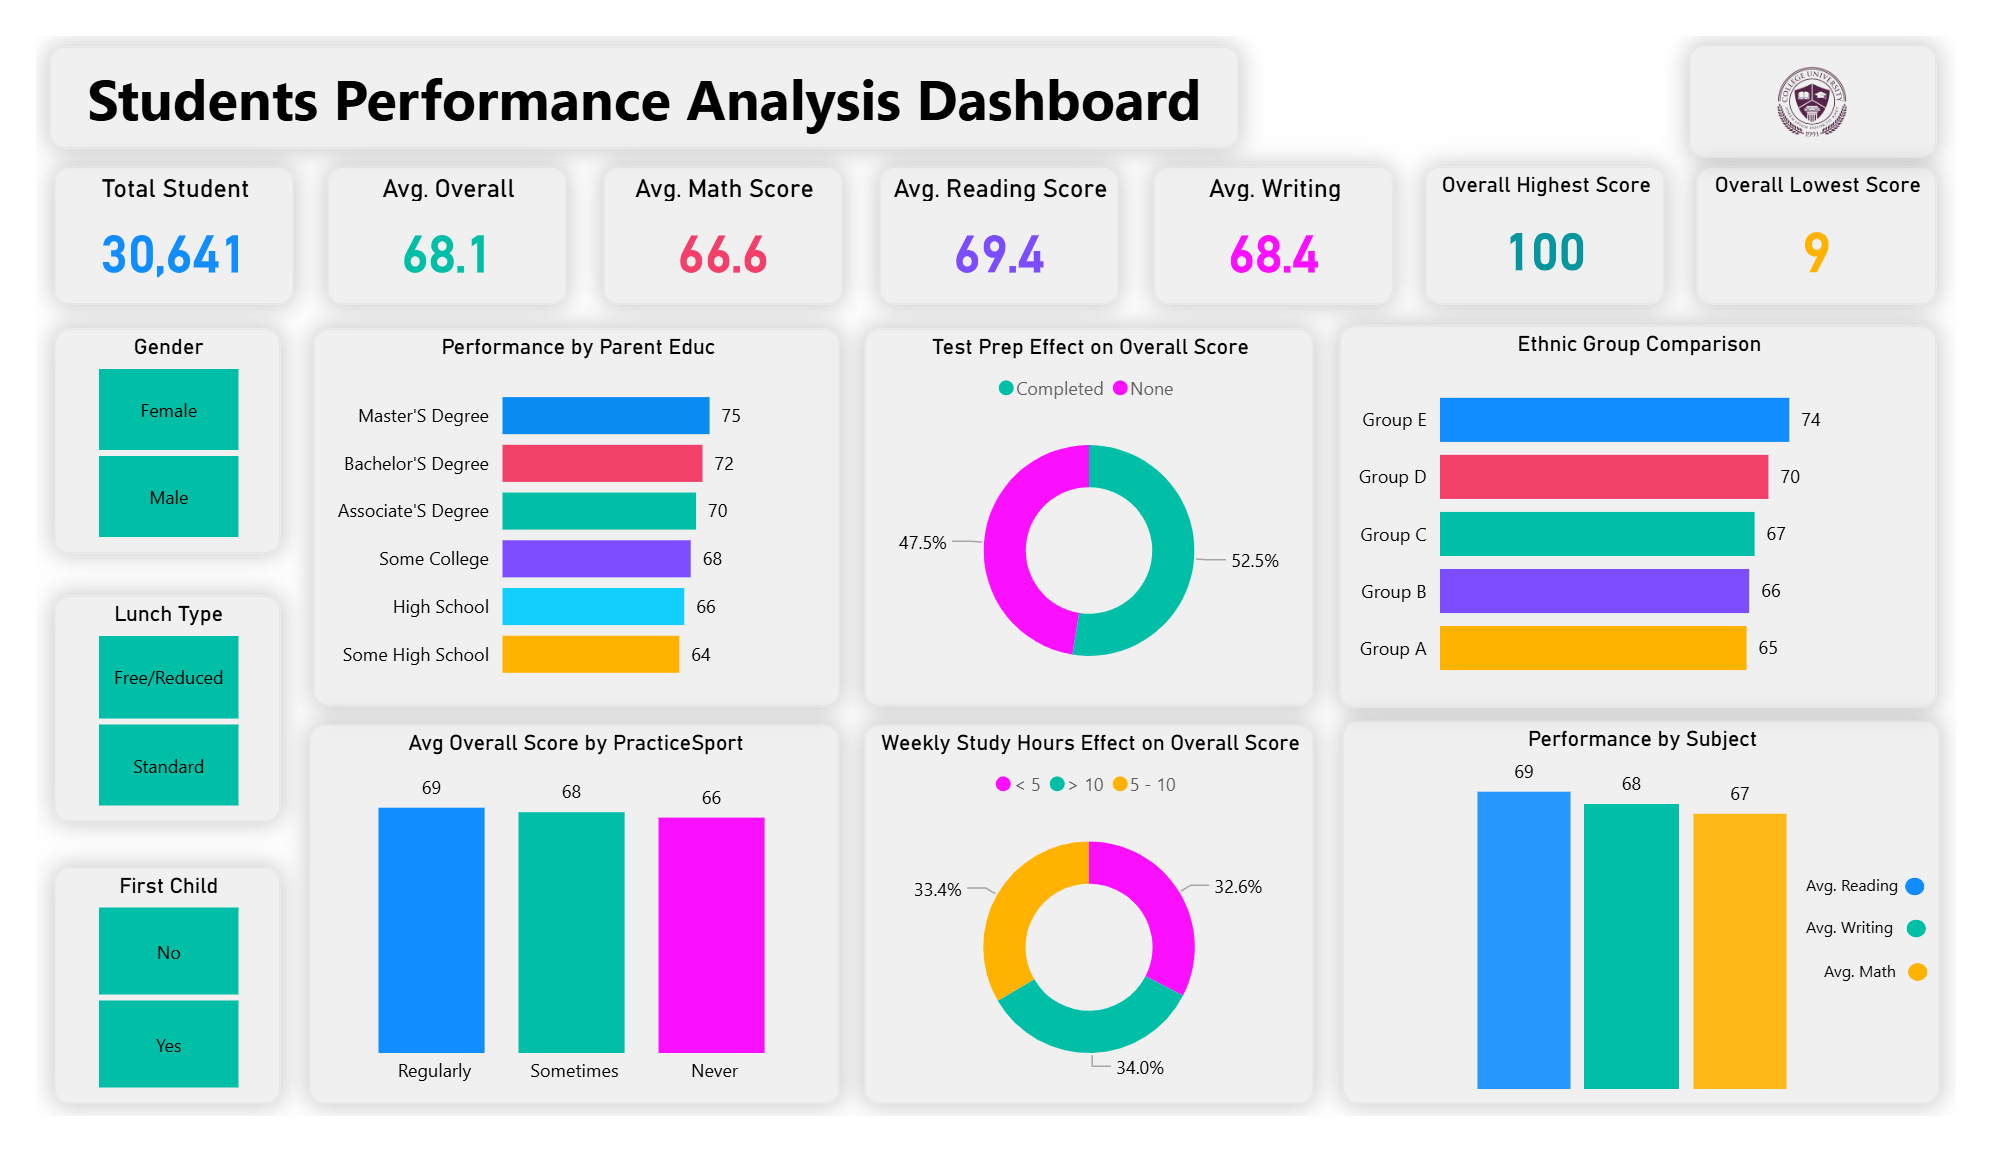

Layout of this report page (visuals, bound fields, positions):
{"tool":"powerbi","page":{"name":"Dashboard","canvas":[1280,720],"ordinal":0},"visuals":[{"type":"shape","box":[0,0,1280,720],"z":0},{"type":"clusteredColumnChart","title":"Performance by Subject","fields":{"Y":["Expanded_data_with_more_features.Avg Writing Score"]},"box":[870.5,456.2,398.8,255.8],"z":1000},{"type":"card","title":"Total Student","fields":{"Values":["Expanded_data_with_more_features.Total Students"]},"box":[12,87,160,92],"z":5000},{"type":"donutChart","title":"Test Prep Effect on Overall Score ","fields":{"Category":["Expanded_data_with_more_features.TestPrep"],"Y":["Expanded_data_with_more_features.Avg Overall Score"]},"box":[552.4,194.5,299.6,252.9],"z":6000},{"type":"barChart","title":"Performance by Parent Educ","fields":{"Y":["Expanded_data_with_more_features.Avg Overall Score"],"Category":["Expanded_data_with_more_features.ParentEduc"]},"box":[184.8,194.5,351.1,252.9],"z":7000},{"type":"barChart","title":"Ethnic Group Comparison","fields":{"Y":["Expanded_data_with_more_features.Avg Overall Score"],"Category":["Expanded_data_with_more_features.EthnicGroup"]},"box":[869,193,398,255],"z":8000},{"type":"columnChart","fields":{"Y":["Expanded_data_with_more_features.Avg Overall Score"],"Category":["Expanded_data_with_more_features.PracticeSport"]},"box":[181.9,459.1,354,252.9],"z":9000},{"type":"donutChart","title":"Weekly Study Hours Effect on Overall Score  ","fields":{"Y":["Expanded_data_with_more_features.Avg Overall Score"],"Series":["Expanded_data_with_more_features.WklyStudyHours"]},"box":[552.4,459.1,299.6,252.9],"z":10000},{"type":"slicer","title":"Gender","fields":{"Values":["Expanded_data_with_more_features.Gender"]},"box":[11.6,194.5,151.7,150.8],"z":11000},{"type":"slicer","title":"First Child","fields":{"Values":["Expanded_data_with_more_features.IsFirstChild"]},"box":[11.6,554.4,151.7,157.6],"z":12000},{"type":"slicer","title":"Lunch Type","fields":{"Values":["Expanded_data_with_more_features.LunchType"]},"box":[11.6,373.5,151.7,150.8],"z":13000},{"type":"clusteredColumnChart","fields":{"Y":["Expanded_data_with_more_features.Avg Math Score"]},"box":[1038,482,196,226],"z":15000},{"type":"shape","box":[1246,561,13,12],"z":15001},{"type":"clusteredColumnChart","fields":{"Y":["Expanded_data_with_more_features.Avg Reading Score"]},"box":[894,468,196,240],"z":15002},{"type":"shape","box":[1247,589,13,12],"z":15003},{"type":"shape","box":[1248,618,13,12],"z":15004},{"type":"textbox","box":[1187,608,74,31],"z":15005},{"type":"textbox","box":[1175,579,74,31],"z":15006},{"type":"textbox","box":[1175,551,74,31],"z":15007},{"type":"card","title":"Avg. Overall","fields":{"Values":["Expanded_data_with_more_features.Avg Overall Score"]},"box":[194,87,160,92],"z":15008},{"type":"card","title":"Avg. Math Score","fields":{"Values":["Expanded_data_with_more_features.Avg Math Score"]},"box":[378,87,160,92],"z":15009},{"type":"card","title":"Avg. Reading Score","fields":{"Values":["Expanded_data_with_more_features.Avg Reading Score"]},"box":[562,87,160,92],"z":15010},{"type":"card","title":"Avg. Writing","fields":{"Values":["Expanded_data_with_more_features.Avg Writing Score"]},"box":[745,87,160,92],"z":15011},{"type":"card","title":"Overall Highest Score","fields":{"Values":["Max(Expanded_data_with_more_features.Overall Score)"]},"box":[926,87,160,92],"z":15012},{"type":"card","title":"Overall Lowest Score","fields":{"Values":["Min(Expanded_data_with_more_features.Overall Score)"]},"box":[1107,87,160,92],"z":15013},{"type":"textbox","box":[9,7,793,68],"z":15014},{"type":"image","box":[1102,6,165,75],"z":15015}]}

Visuals, with their boxes in screenshot pixels (x1, y1, x2, y2), scaled from the page's 1280x720 canvas onto the 1992x1152 screenshot:
shape: bbox=[0, 0, 1991, 1151]
"Performance by Subject" clusteredColumnChart: bbox=[1355, 730, 1975, 1139]
"Total Student" card: bbox=[19, 139, 268, 286]
"Test Prep Effect on Overall Score " donutChart: bbox=[860, 311, 1326, 716]
"Performance by Parent Educ" barChart: bbox=[288, 311, 834, 716]
"Ethnic Group Comparison" barChart: bbox=[1352, 309, 1972, 717]
columnChart - Expanded_data_with_more_features.Avg Overall Score x Expanded_data_with_more_features.PracticeSport: bbox=[283, 735, 834, 1139]
"Weekly Study Hours Effect on Overall Score  " donutChart: bbox=[860, 735, 1326, 1139]
"Gender" slicer: bbox=[18, 311, 254, 552]
"First Child" slicer: bbox=[18, 887, 254, 1139]
"Lunch Type" slicer: bbox=[18, 598, 254, 839]
clusteredColumnChart - Expanded_data_with_more_features.Avg Math Score: bbox=[1615, 771, 1920, 1133]
shape: bbox=[1939, 898, 1959, 917]
clusteredColumnChart - Expanded_data_with_more_features.Avg Reading Score: bbox=[1391, 749, 1696, 1133]
shape: bbox=[1941, 942, 1961, 962]
shape: bbox=[1942, 989, 1962, 1008]
textbox: bbox=[1847, 973, 1962, 1022]
textbox: bbox=[1829, 926, 1944, 976]
textbox: bbox=[1829, 882, 1944, 931]
"Avg. Overall" card: bbox=[302, 139, 551, 286]
"Avg. Math Score" card: bbox=[588, 139, 837, 286]
"Avg. Reading Score" card: bbox=[875, 139, 1124, 286]
"Avg. Writing" card: bbox=[1159, 139, 1408, 286]
"Overall Highest Score" card: bbox=[1441, 139, 1690, 286]
"Overall Lowest Score" card: bbox=[1723, 139, 1972, 286]
textbox: bbox=[14, 11, 1248, 120]
image: bbox=[1715, 10, 1972, 130]
